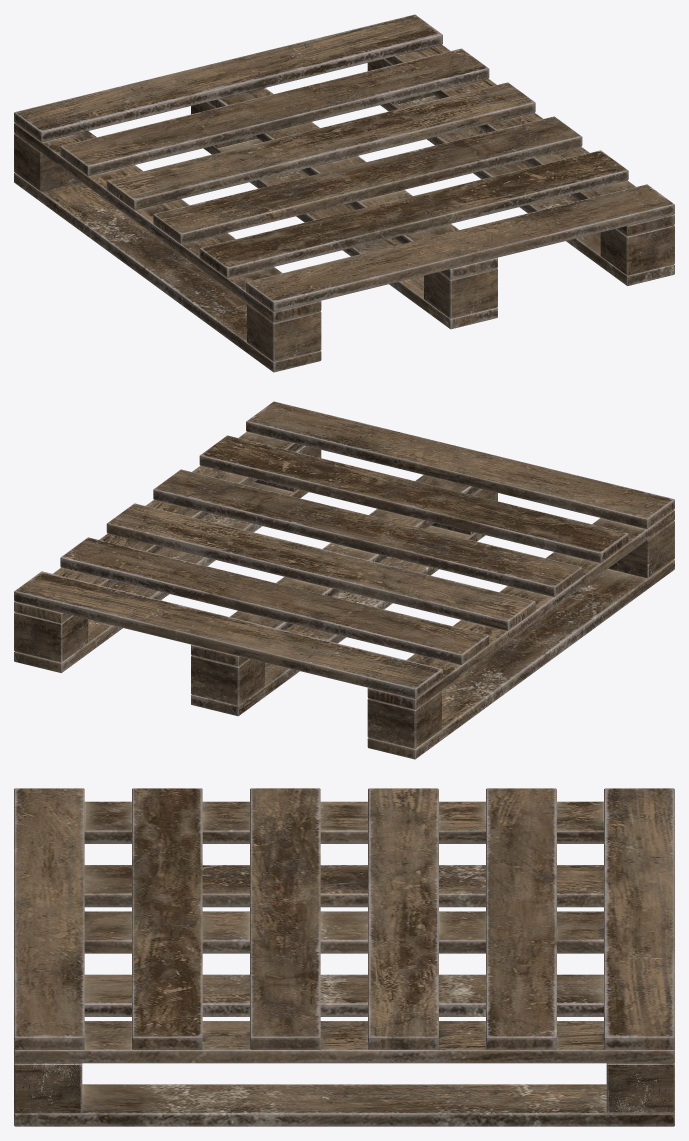
Rendered from SM_Wooden_Pallette.glb.
3 renders of one model, top to bottom at view 1: azimuth 30°, elevation 25°; view 2: azimuth 150°, elevation 25°; view 3: azimuth 270°, elevation 25°, orthographic. The views are drawn at different scales.
Visible parts, largest first — view 1: SM_Wooden_Pallette; view 2: SM_Wooden_Pallette; view 3: SM_Wooden_Pallette.
Part boxes in pixels (bbox=[...]): SM_Wooden_Pallette: bbox=[14, 14, 674, 372]; SM_Wooden_Pallette: bbox=[14, 401, 674, 759]; SM_Wooden_Pallette: bbox=[14, 788, 674, 1126].
Bounding box in the file's own units: 1 × 0.1685 × 1.12.
1 material, 1 textured.
